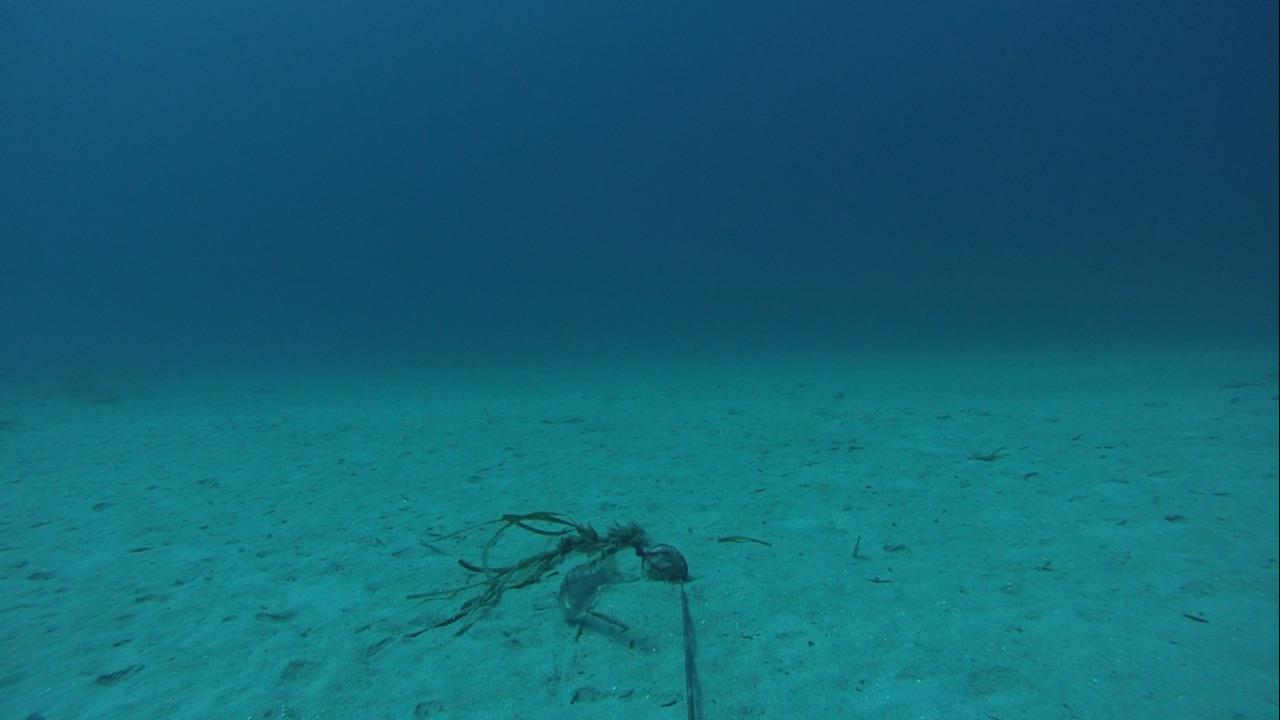raor: (554, 550, 632, 624)
